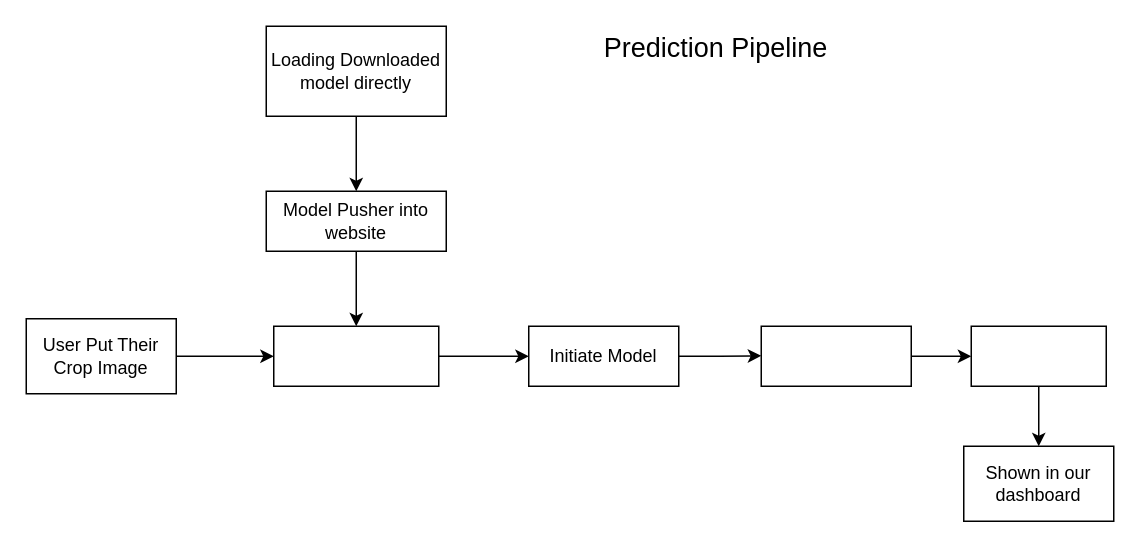
The diagram is 1140 pixels wide and 548 high, and some of its shapes have lost their labels. Each missing label, with the box of its shape:
Prediction: (970, 325, 1106, 386)
Unfolding the .keras file: (760, 325, 911, 386)
Webpage with user interaction: (272, 325, 439, 386)
